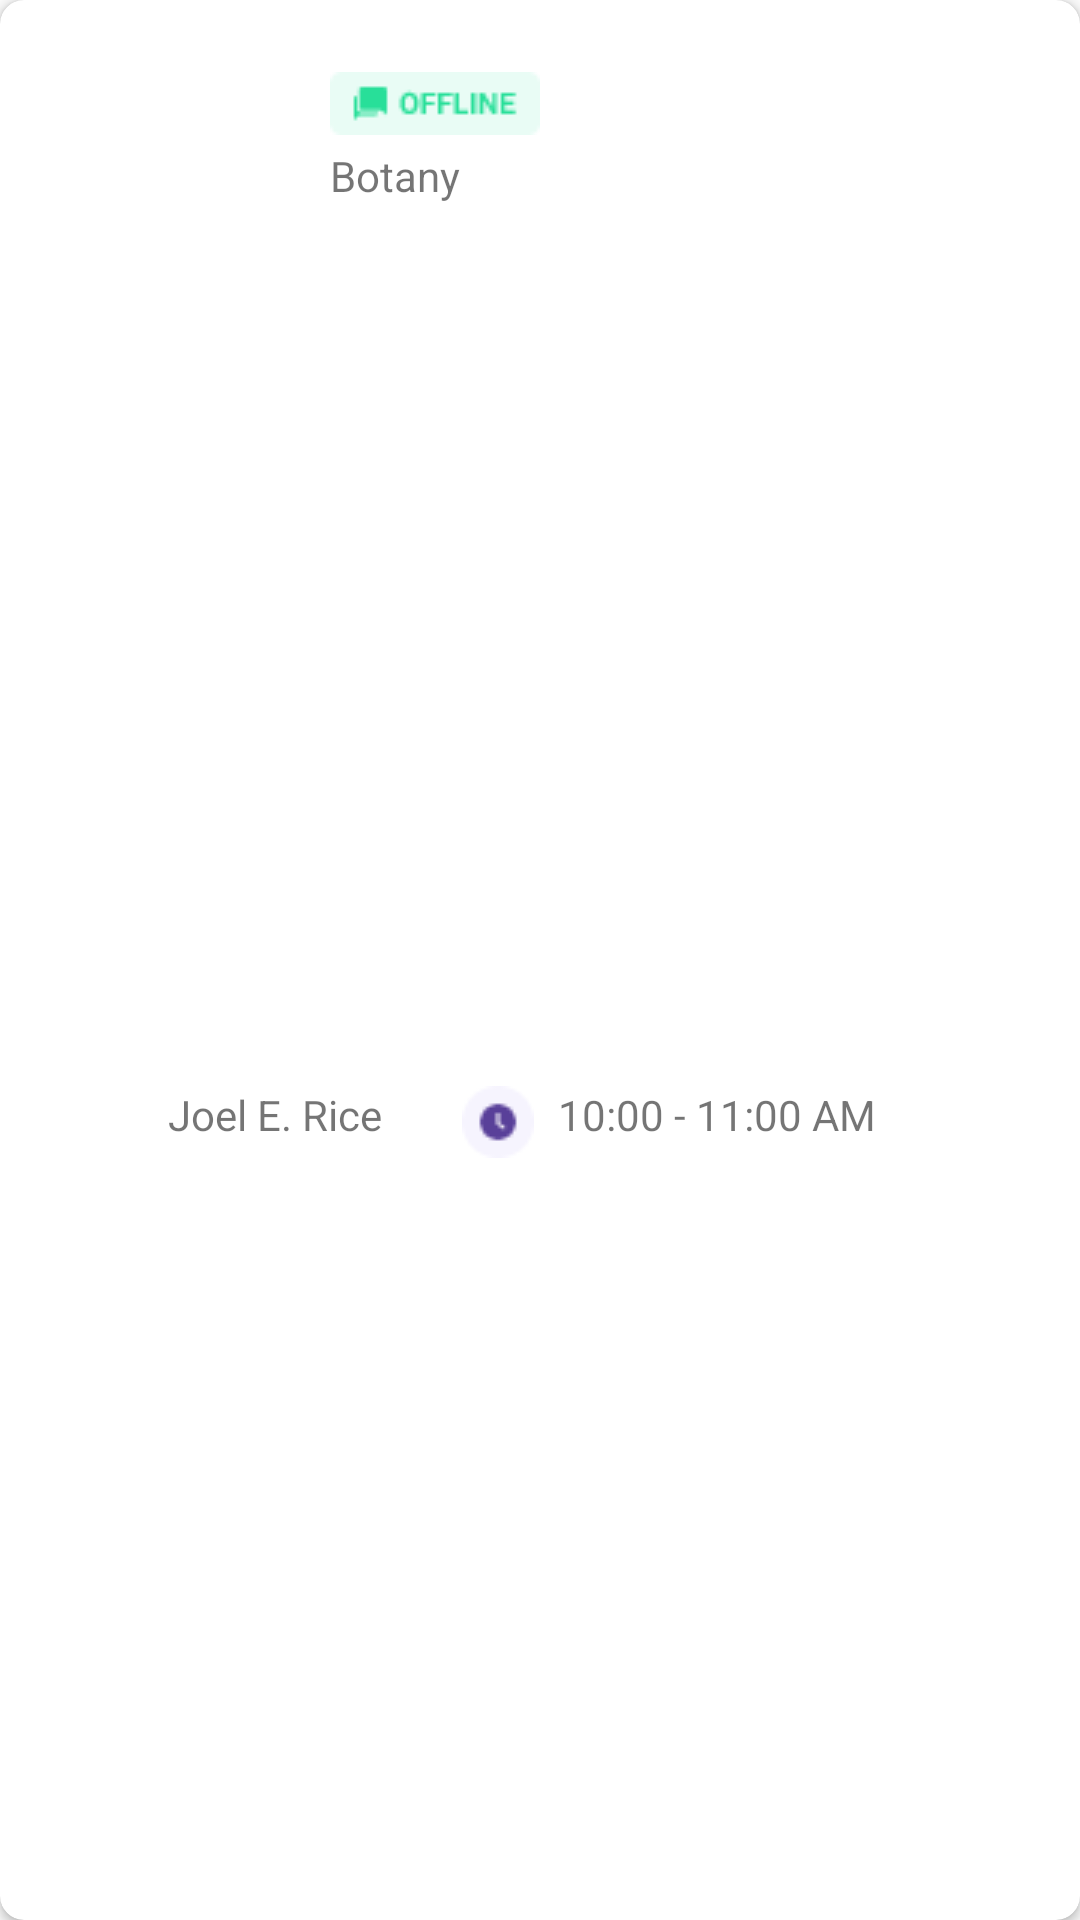

Icon click points for this 1080 x 1920 phone screenshot, format point (x, y):
time: point (498, 1122)
